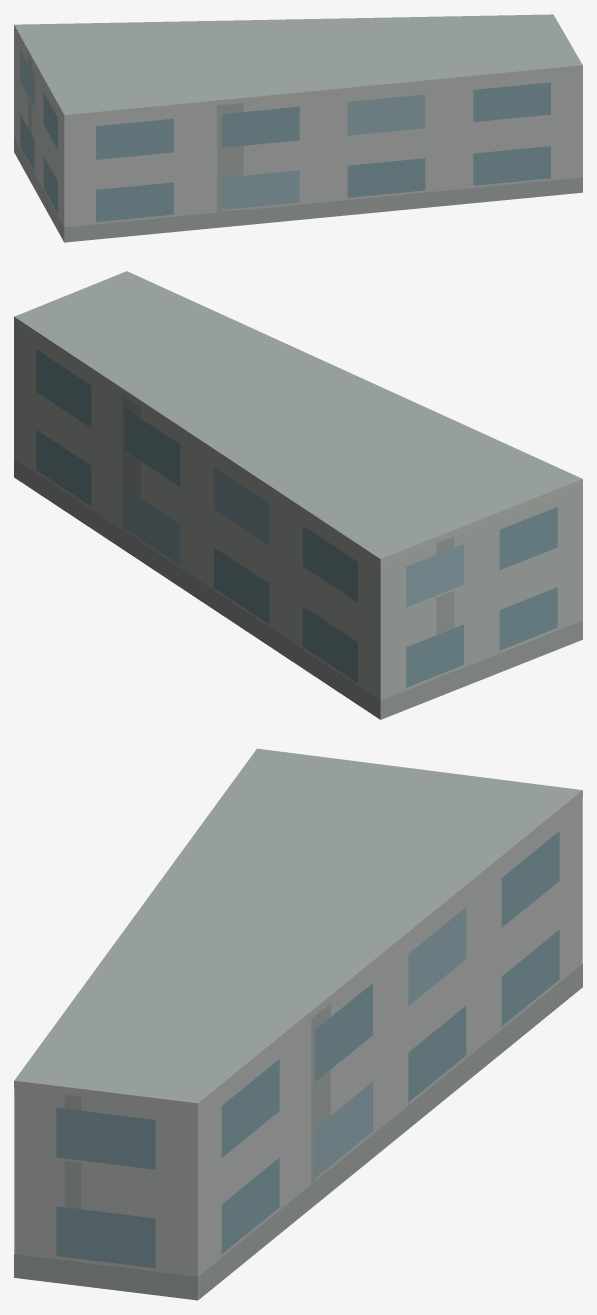
Rendered from survey-upis-32793423.glb.
3 views of the same model, one above another, from view 1: azimuth 30°, elevation 25°; view 2: azimuth 150°, elevation 25°; view 3: azimuth 270°, elevation 25° (orthographic). The views are drawn at different scales.
Parts seen in each view (by area): view 1: survey-upis-32793423.tmp; view 2: survey-upis-32793423.tmp; view 3: survey-upis-32793423.tmp.
Boxes of the visible parts, x1,y1,x2,y2 form: survey-upis-32793423.tmp: [14, 14, 582, 242]; survey-upis-32793423.tmp: [14, 271, 582, 719]; survey-upis-32793423.tmp: [14, 748, 582, 1300].
Size of the model in its own units: 23.56 by 6.1 by 15.96.
